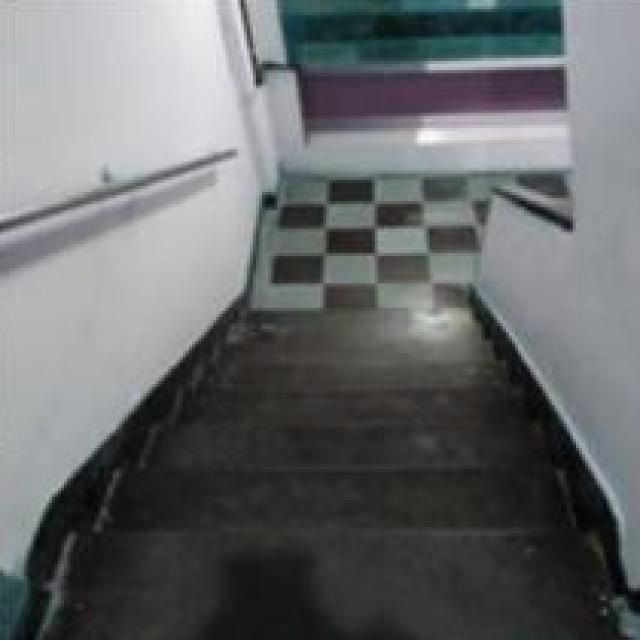downstair: (71, 422, 583, 608)
